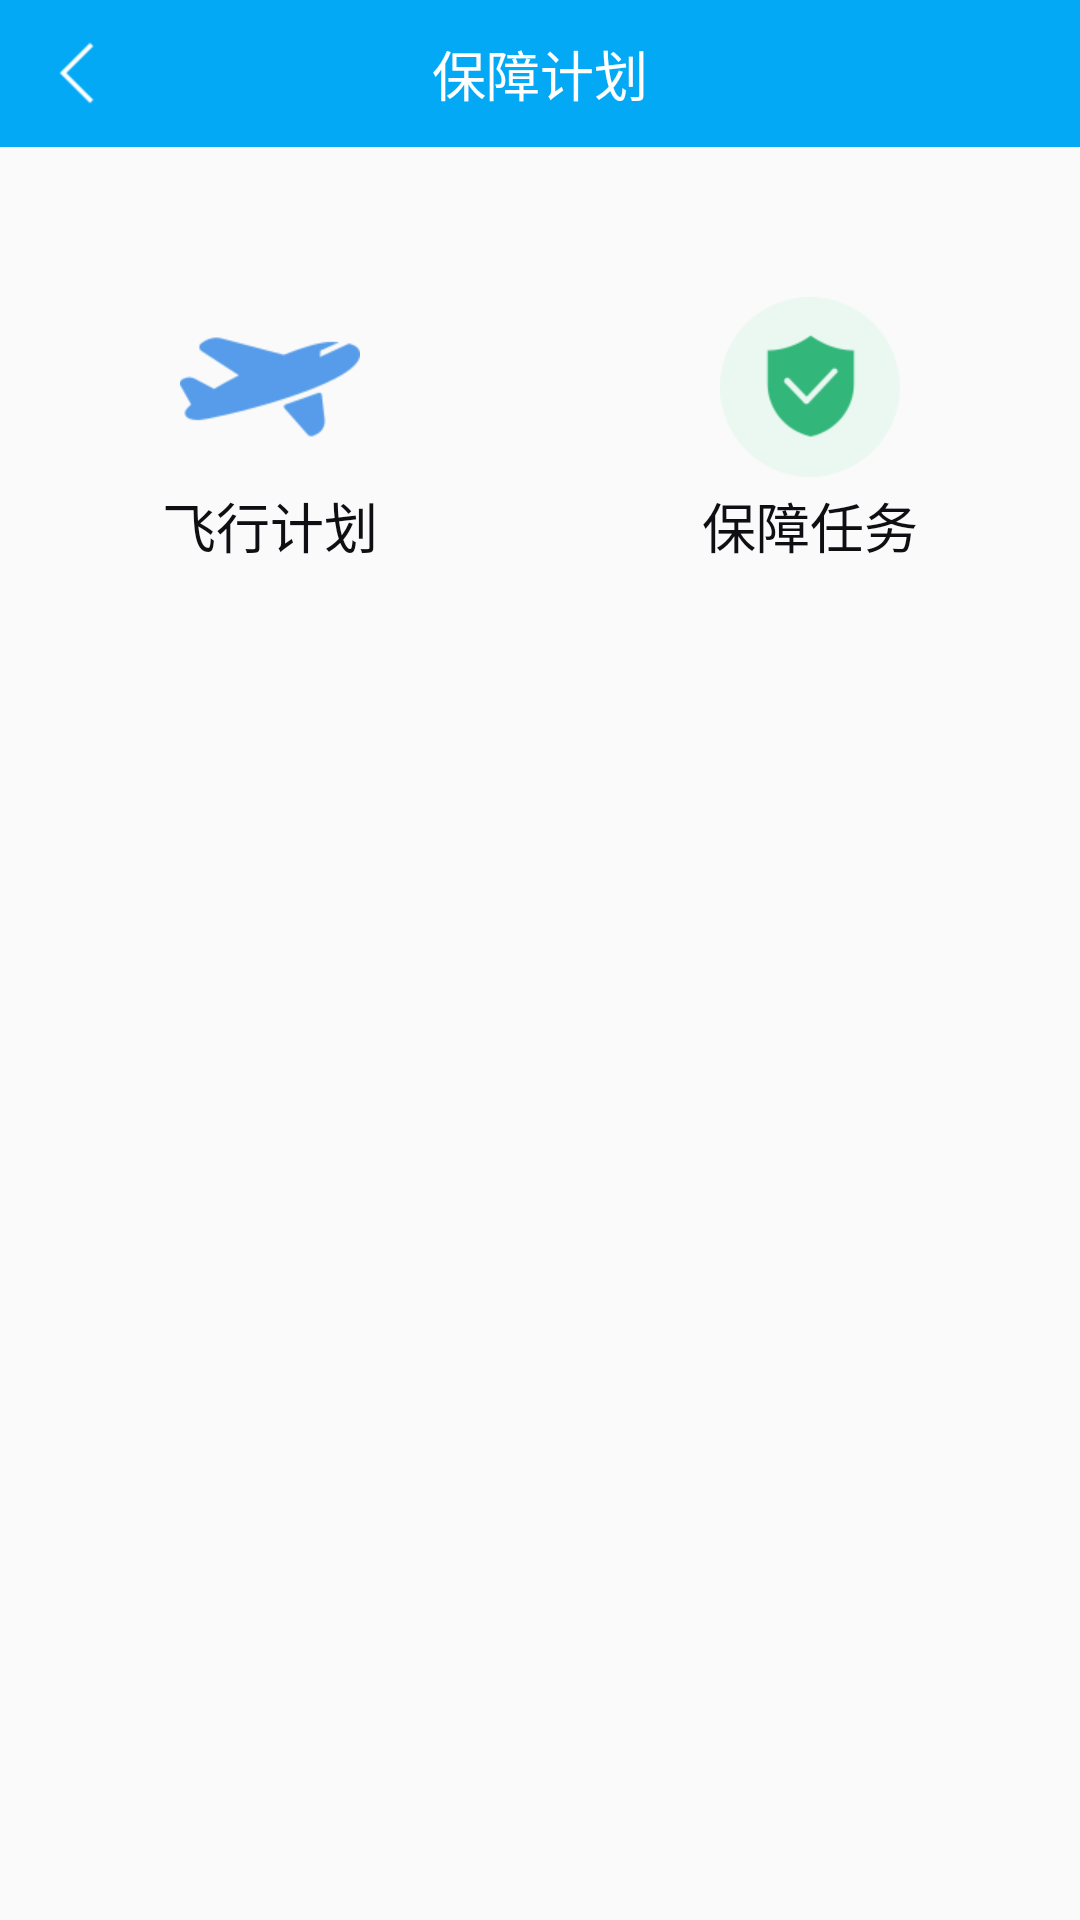

Icons on this 1080x1920 Android screen, each with the point to tap as [x,y]:
back: [76,73]
